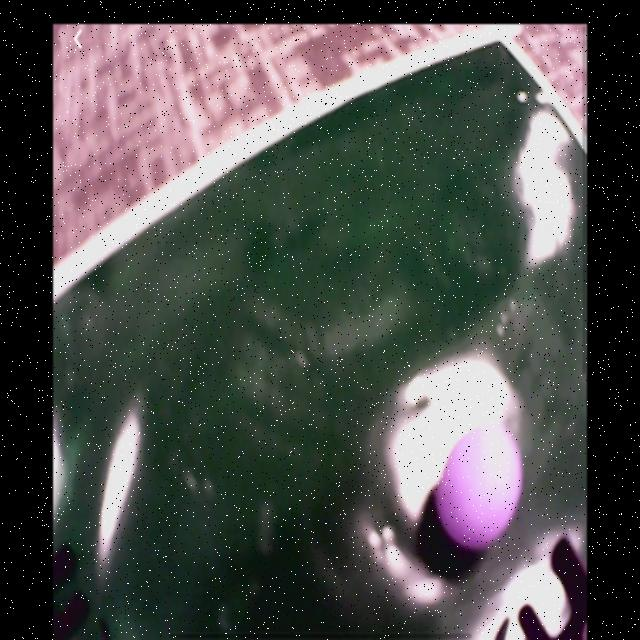ball: (439, 425, 524, 548)
